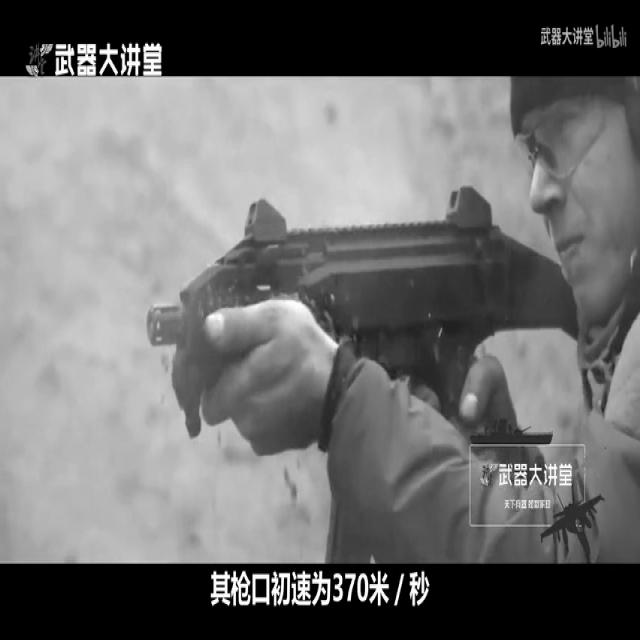Sub-machine-gun: (132, 187, 563, 498)
